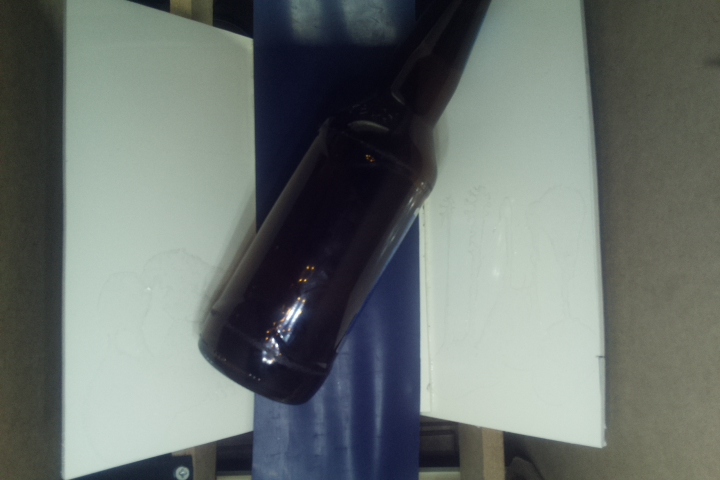makju: (191, 1, 496, 402)
